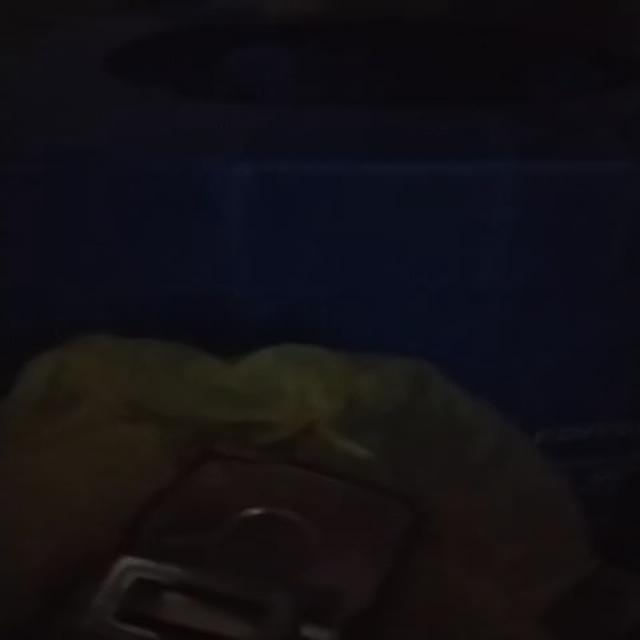bin: (4, 0, 640, 480)
metal: (68, 458, 419, 640)
